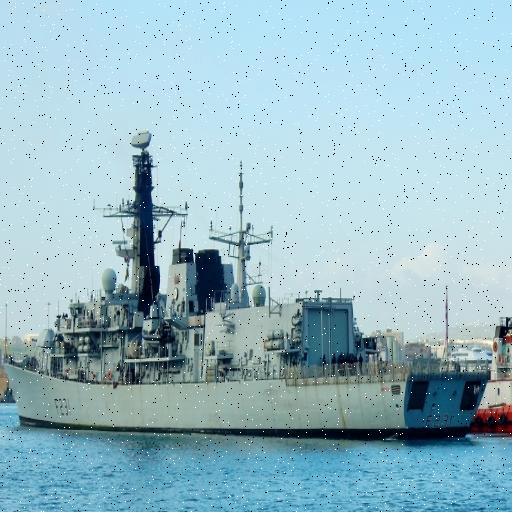Fragata: (1, 122, 494, 445)
